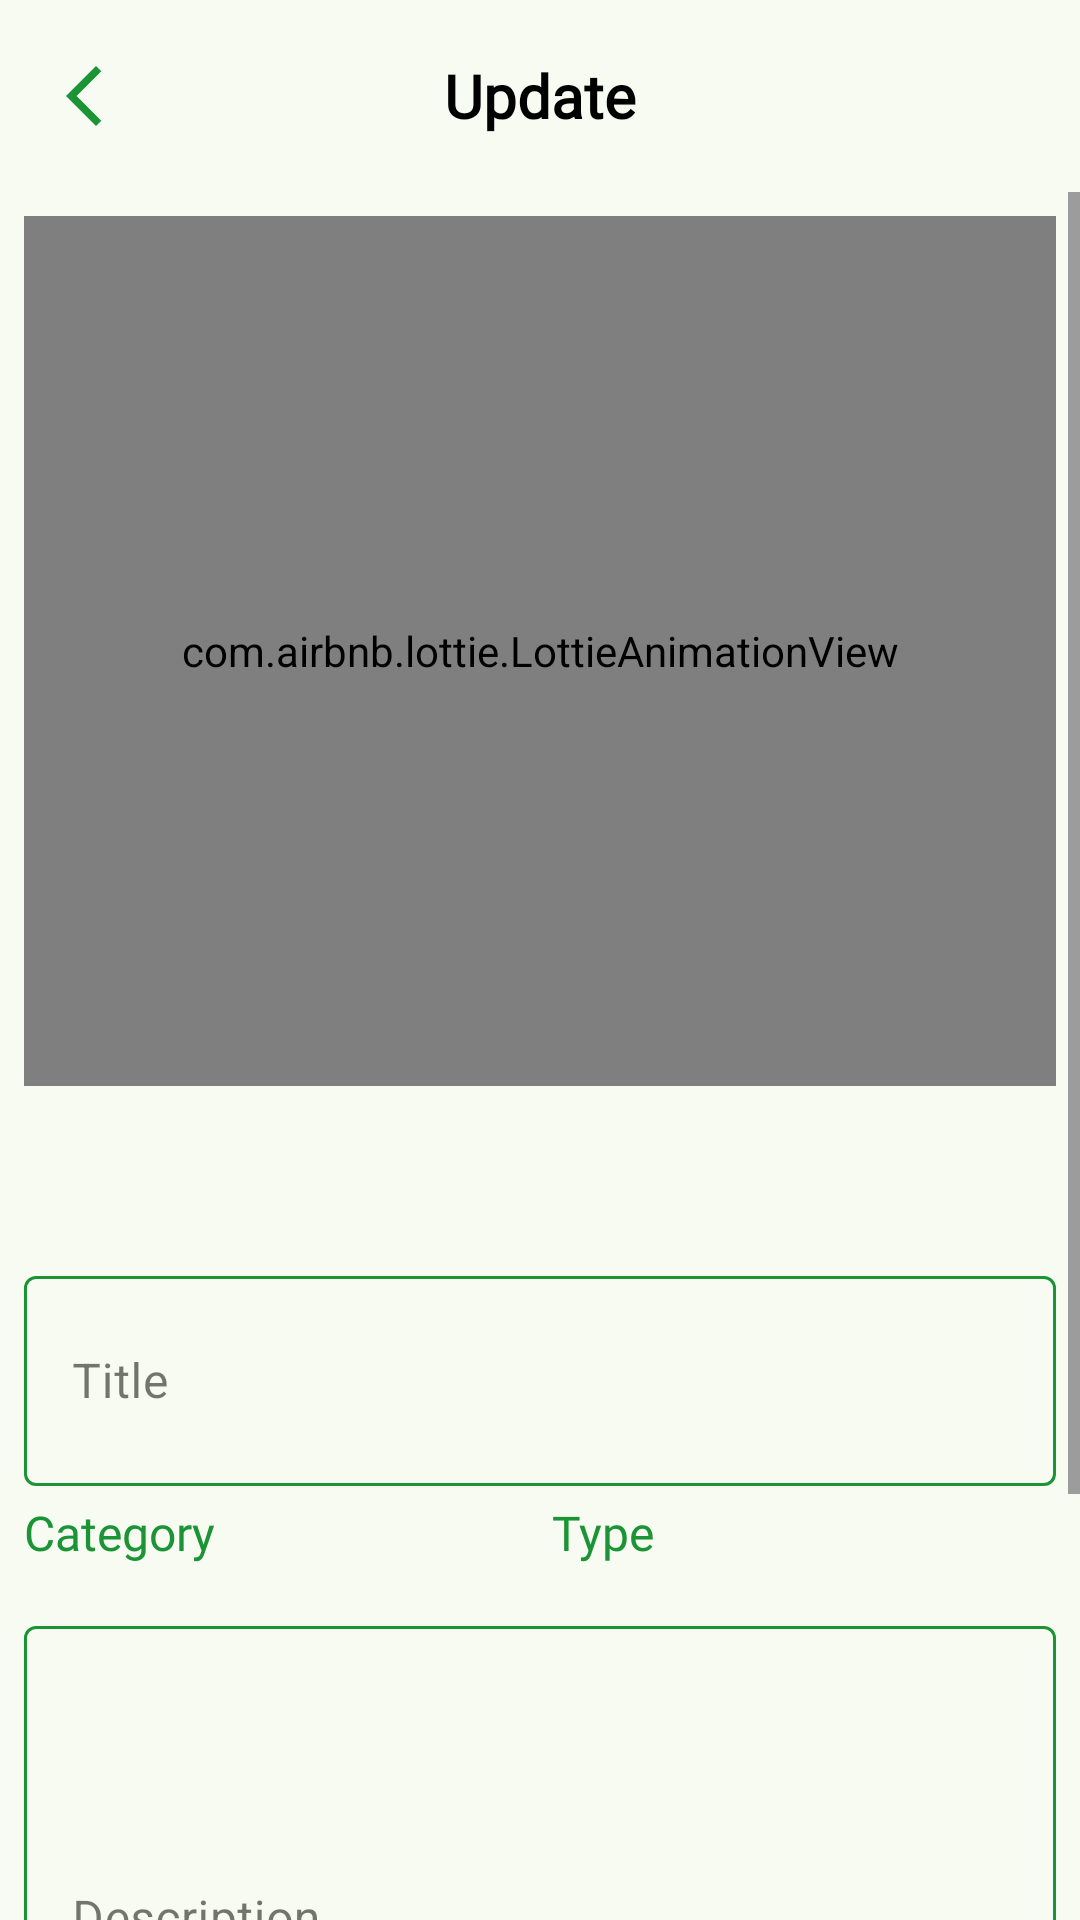

Icons on this 1080 x 1920 Android screen, each with its box as (x1=x1, y1=y1, x2=x2, y2=y2):
Back: (x1=66, y1=66, x2=101, y2=126)
